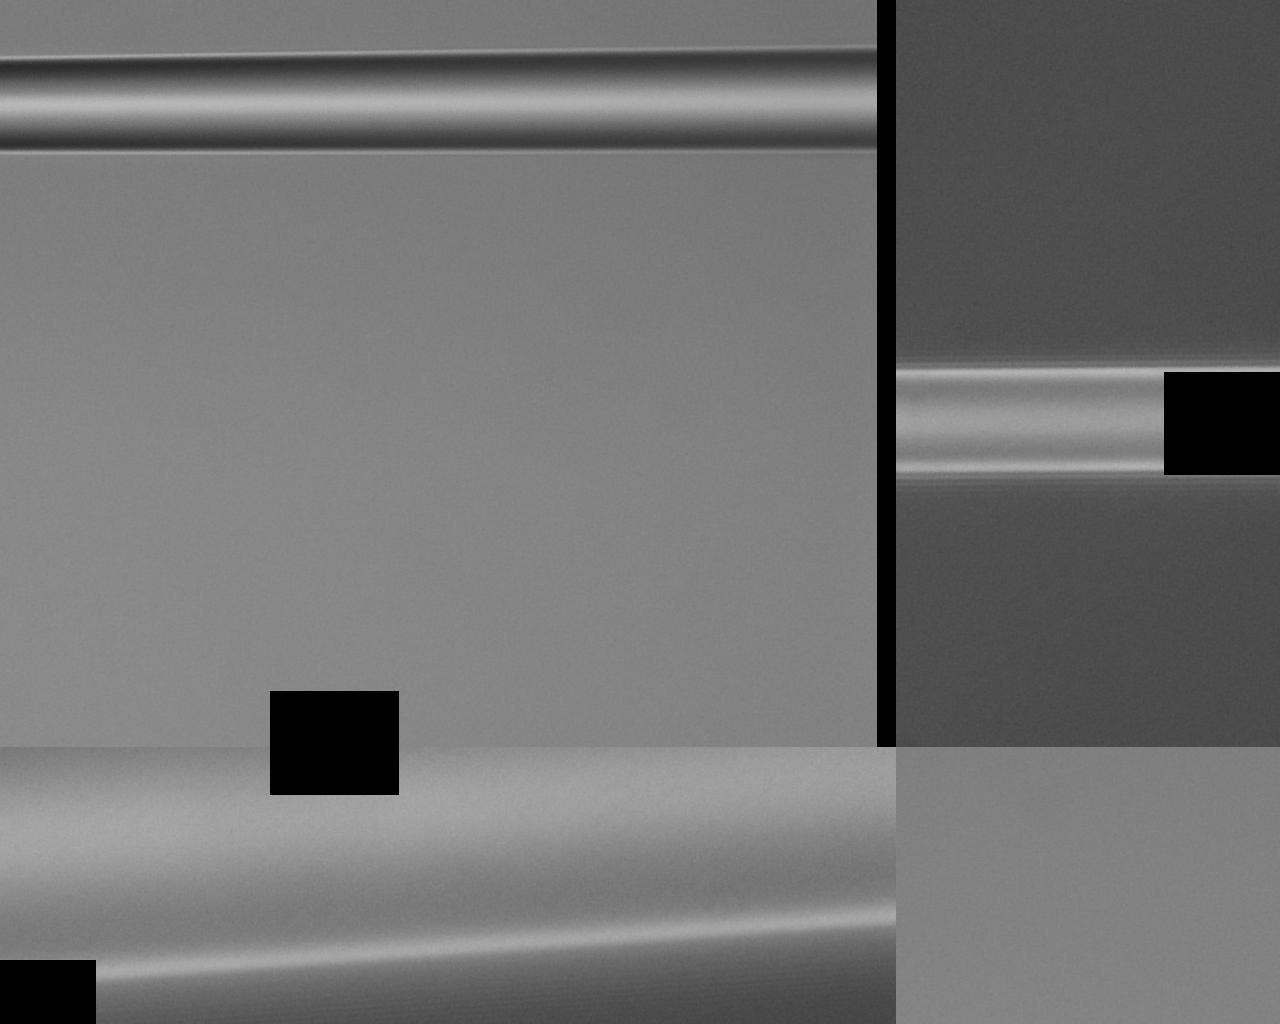fiber: (44, 0, 716, 430), (716, 660, 1280, 858), (0, 430, 677, 494)
